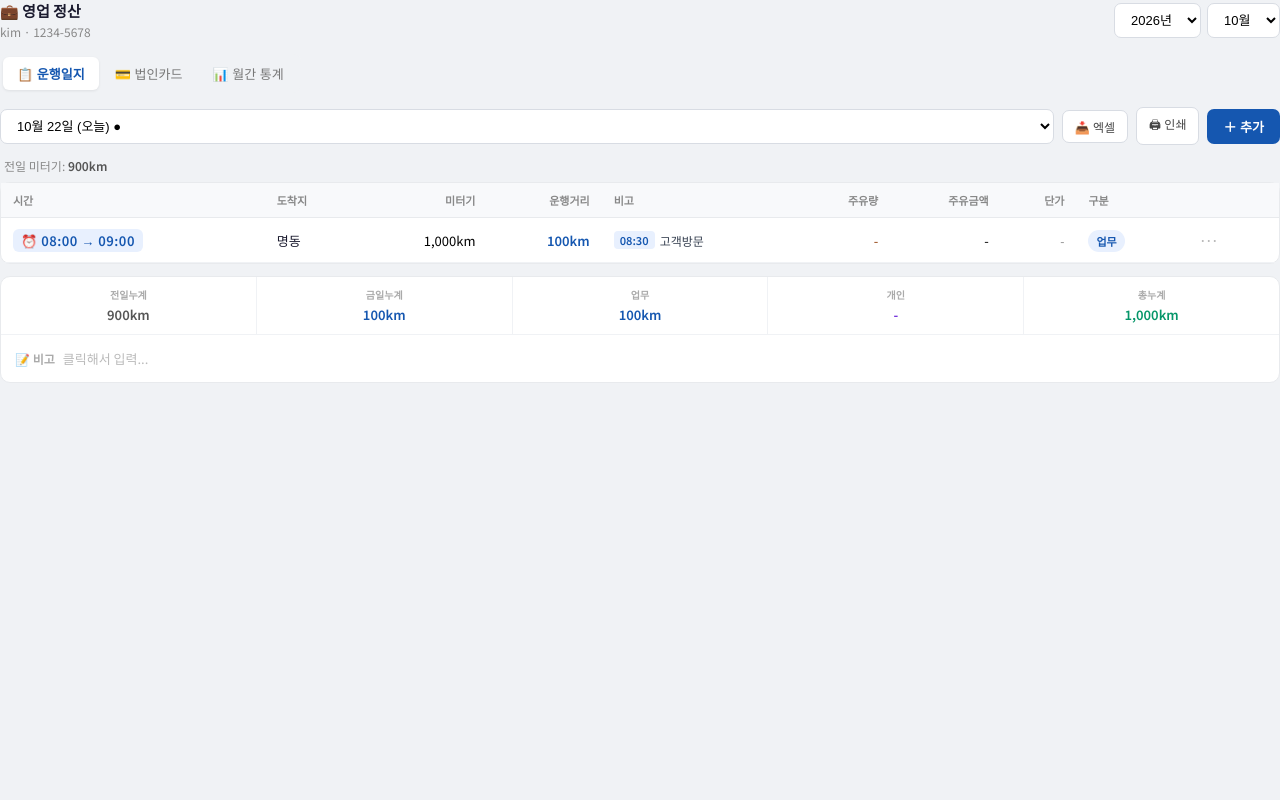
Scenario: 영업 정산 – 입력 가능 날짜 › 이번 주 → 지금처럼 입력 가능 (19~25일)
The width and height of the screenshot is (1280, 800).
Click the button "＋ 추가": (1244, 126) x1=1208 y1=108 x2=1279 y2=144
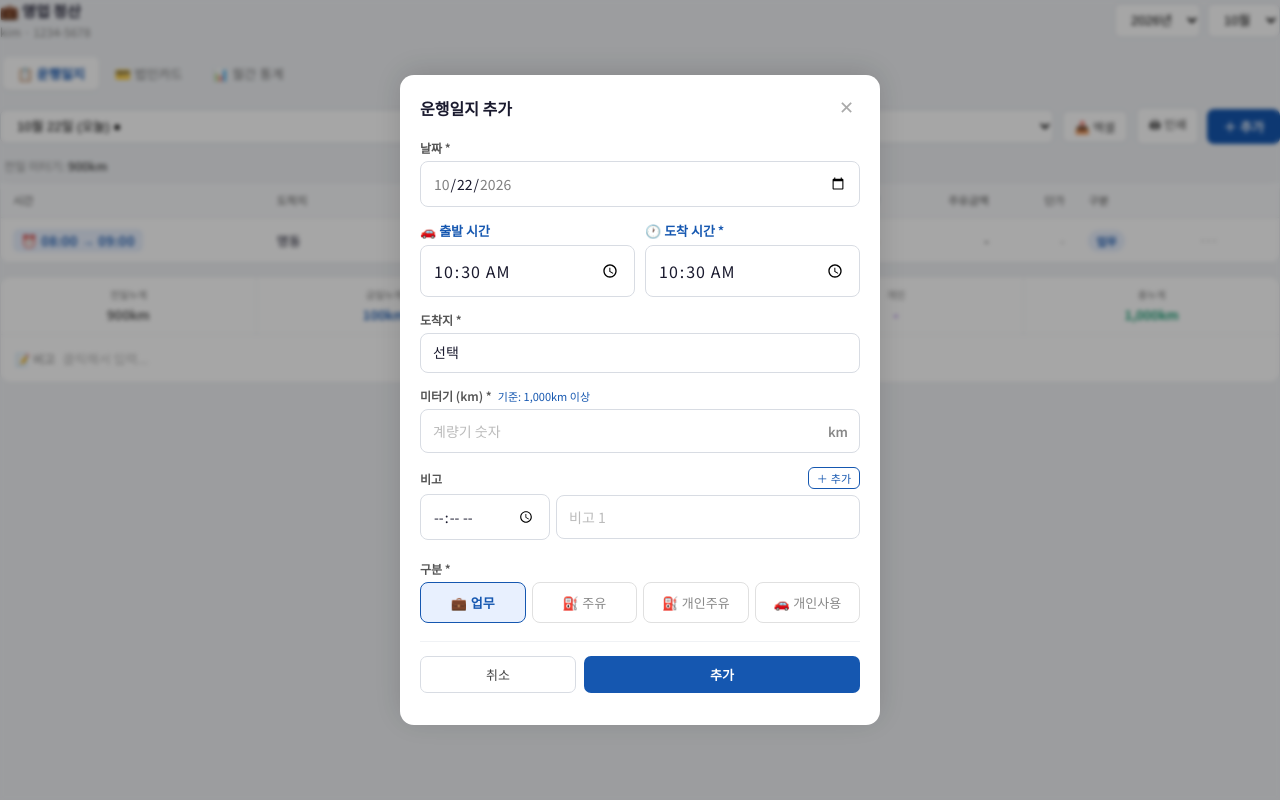
Expected: the element with class "sl-modal" is shown, x1=400 y1=75 x2=880 y2=725
